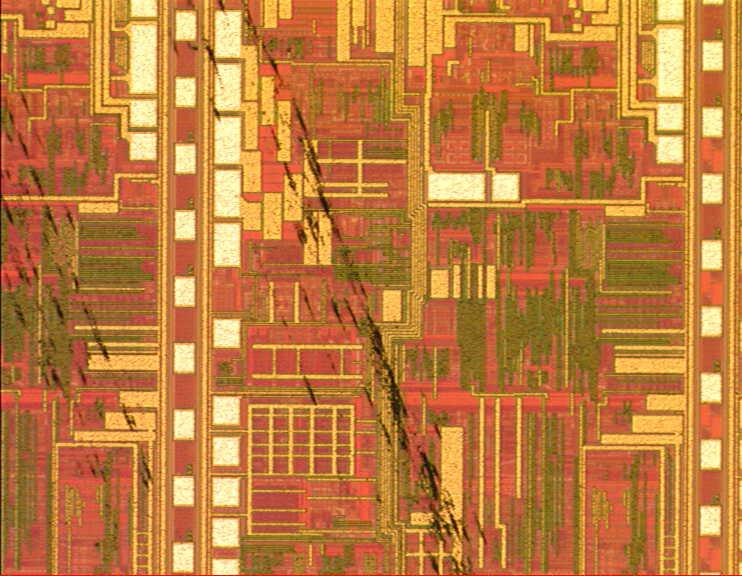SCRATCH: (1, 1, 502, 576)
